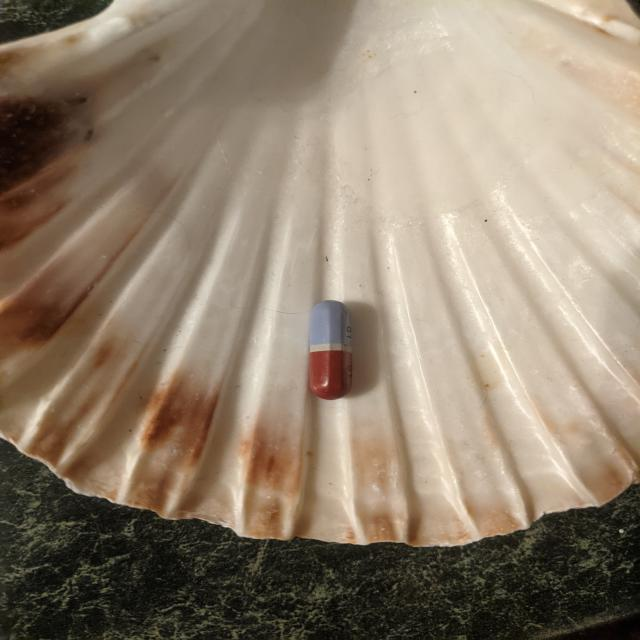non-organic waste: (306, 298, 356, 402)
